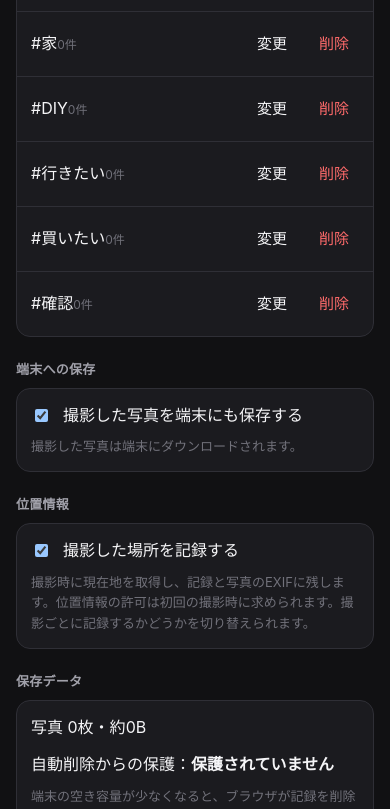
Test case: タグ設定 › 端末への保存をOFFにするとバックアップの注意を出す
(page scrolled)
Check: the text "バックアップは「エクスポート」の写真付きZIPだけ" is not shown
Click the checkbox labelled "撮影した写真を端末にも保存する": click(42, 416) x1=35 y1=409 x2=48 y2=422
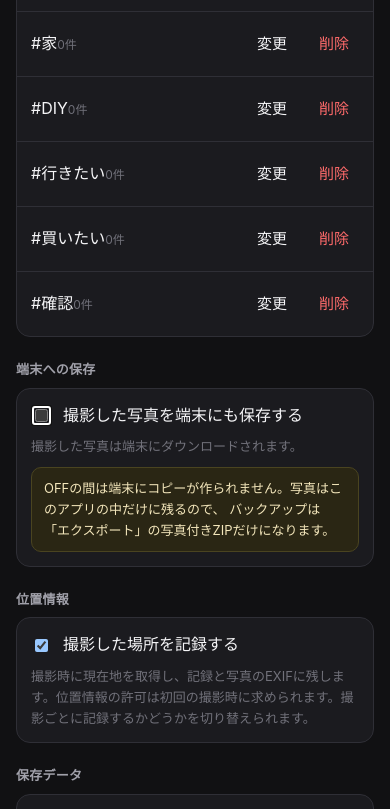
Check: the text "OFFの間は端末にコピーが作られません。写真はこのアプリの中だけに残るので、 バックアップは「エクスポート」の写真付きZIPだけになります。" is shown, box x1=31 y1=467 x2=359 y2=552
